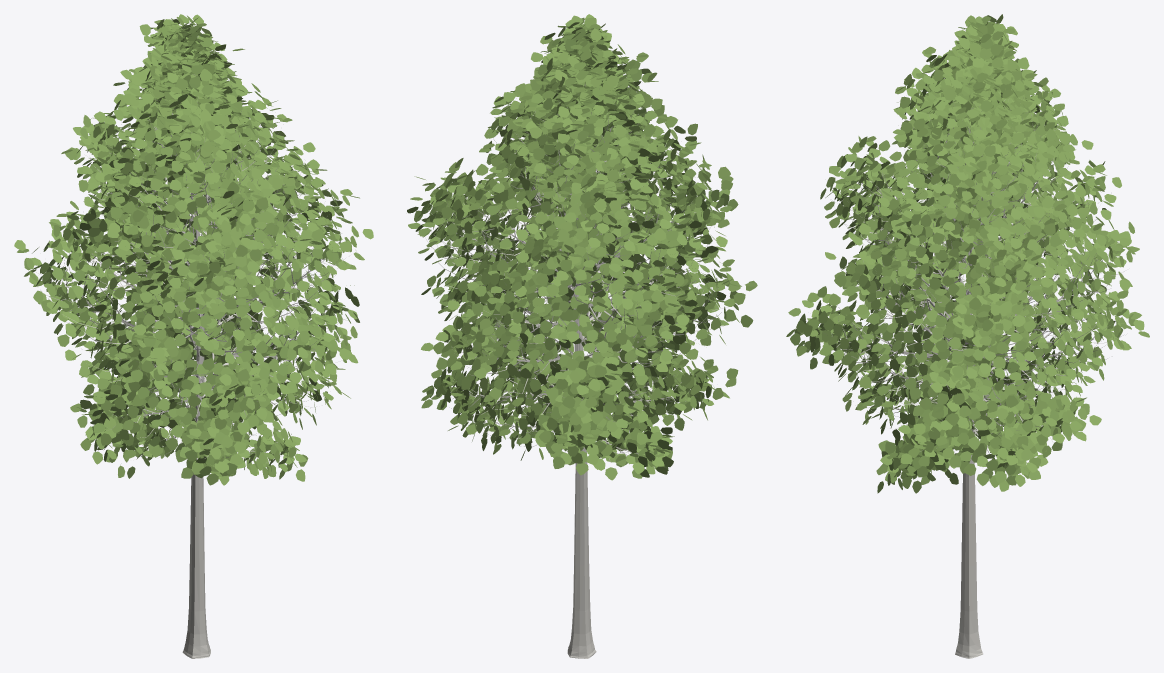
Rendered from sweethome3d-trees-quaking-aspen.glb.
3 views of the same model, side by side, from view 1: azimuth 30°, elevation 25°; view 2: azimuth 150°, elevation 25°; view 3: azimuth 270°, elevation 25° (orthographic).
Visible parts, largest first — view 1: leaves2, leaves, stems_2, trunk, stems_1; view 2: leaves2, leaves, stems_2, trunk, stems_1; view 3: leaves2, leaves, stems_2, trunk, stems_1.
Boxes of the visible parts, x1=… form: leaves2: x1=14, y1=14, x2=373, y2=485; leaves: x1=32, y1=18, x2=360, y2=471; stems_2: x1=34, y1=52, x2=345, y2=463; trunk: x1=182, y1=194, x2=210, y2=658; stems_1: x1=61, y1=113, x2=326, y2=453; leaves2: x1=408, y1=14, x2=757, y2=480; leaves: x1=407, y1=22, x2=738, y2=477; stems_2: x1=426, y1=64, x2=727, y2=462; trunk: x1=567, y1=157, x2=596, y2=658; stems_1: x1=449, y1=85, x2=708, y2=453; leaves2: x1=786, y1=14, x2=1149, y2=493; leaves: x1=818, y1=15, x2=1118, y2=473; stems_2: x1=802, y1=93, x2=1124, y2=473; trunk: x1=955, y1=247, x2=983, y2=658; stems_1: x1=832, y1=125, x2=1094, y2=435.
Bounding box in the file's own units: 7.54 × 14.87 × 7.82.
